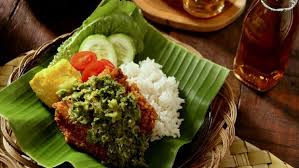ayam_geprek: (52, 68, 162, 165)
